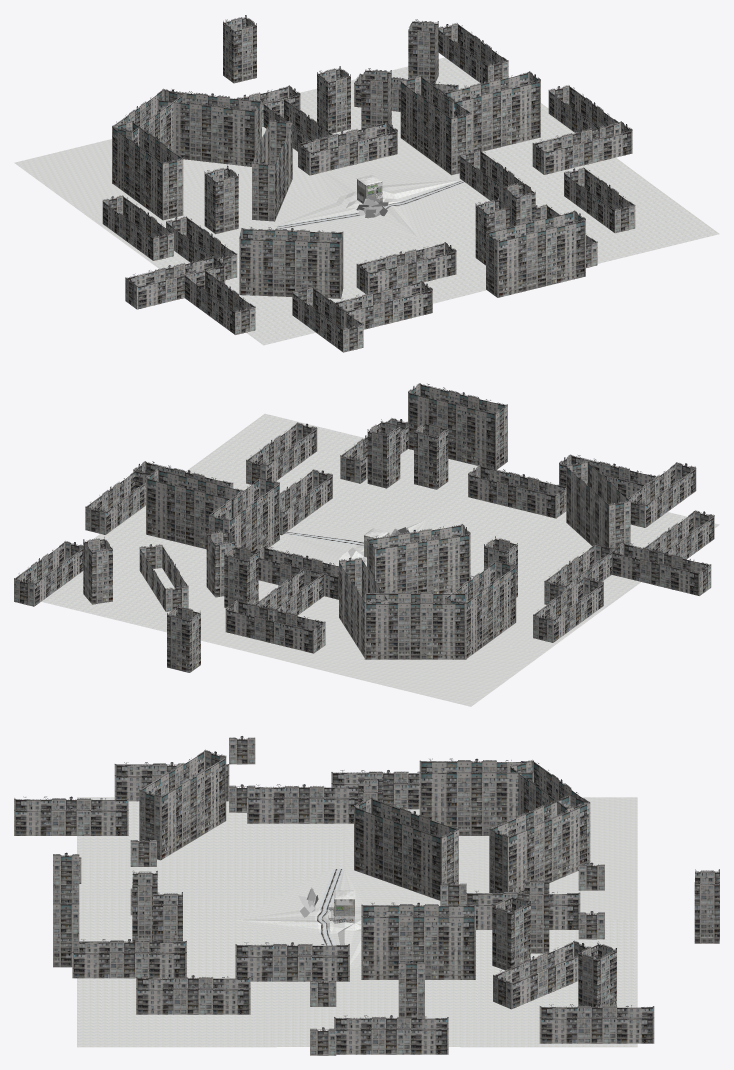
The model's file is fixprice.fbx.
The picture shows the model from 3 angles, top to bottom: view 1: azimuth 30°, elevation 25°; view 2: azimuth 150°, elevation 25°; view 3: azimuth 270°, elevation 25°; orthographic projection. The views are drawn at different scales.
Parts seen in each view (by area): view 1: Plane, building.019, building.025, building.006, building.004, building.008, building, building.005, building.018, building.015, building.003, building.020 (+21 smaller); view 2: Plane, building.007, building.005, building.025, building.004, building.019, building.008, building, building.018, building.011, building.028, building.017 (+21 smaller); view 3: Plane, building, building.005, building.006, building.008, building.019, building.016, building.031, building.024, building.021, building.014, building.002 (+20 smaller).
Part boxes in pixels (left/top/right/bottom): Plane: left=14, top=57, right=719, bottom=345; building.019: left=239, top=227, right=343, bottom=298; building.025: left=486, top=210, right=585, bottom=297; building.006: left=157, top=89, right=261, bottom=166; building.004: left=441, top=71, right=540, bottom=153; building.008: left=112, top=120, right=183, bottom=220; building: left=400, top=75, right=471, bottom=175; building.005: left=252, top=119, right=292, bottom=221; building.018: left=356, top=242, right=456, bottom=294; building.015: left=532, top=121, right=632, bottom=174; building.003: left=298, top=122, right=397, bottom=175; building.020: left=333, top=280, right=432, bottom=329; Plane: left=41, top=413, right=719, bottom=706; building.007: left=364, top=591, right=466, bottom=659; building.005: left=367, top=524, right=470, bottom=593; building.025: left=408, top=383, right=507, bottom=469; building.004: left=146, top=468, right=245, bottom=549; building.019: left=566, top=461, right=630, bottom=549; building.008: left=445, top=560, right=516, bottom=659; building: left=209, top=477, right=279, bottom=552; building.018: left=468, top=465, right=566, bottom=518; building.011: left=225, top=600, right=325, bottom=653; building.028: left=611, top=542, right=711, bottom=595; building.017: left=533, top=577, right=603, bottom=642; Plane: left=77, top=797, right=637, bottom=1047; building: left=361, top=902, right=475, bottom=979; building.005: left=354, top=797, right=458, bottom=900; building.006: left=489, top=794, right=588, bottom=894; building.008: left=419, top=758, right=533, bottom=835; building.019: left=139, top=749, right=226, bottom=860; building.016: left=539, top=1004, right=654, bottom=1043; building.031: left=136, top=975, right=250, bottom=1014; building.024: left=72, top=939, right=186, bottom=978; building.021: left=14, top=796, right=128, bottom=835; building.014: left=334, top=1015, right=448, bottom=1054; building.002: left=235, top=942, right=349, bottom=981.
Bounding box in the file's own units: 26494 × 2944 × 27127.
